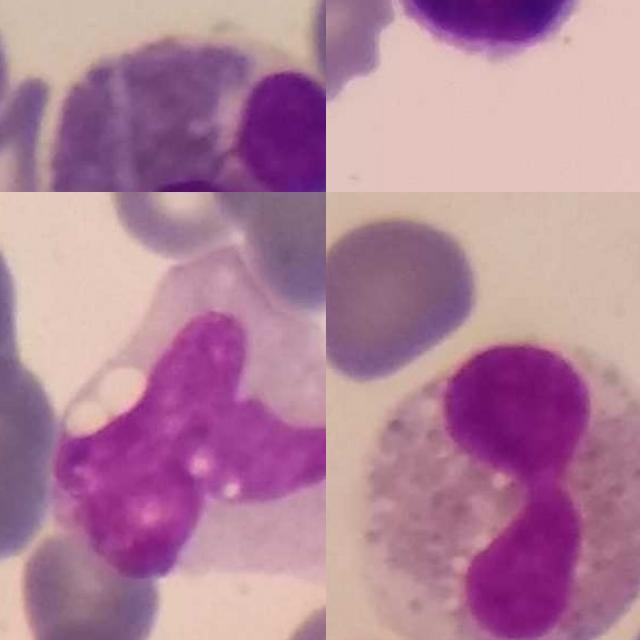Eosinophil: (361, 338, 640, 640), (53, 27, 326, 192)
Lymphocyte: (385, 0, 584, 58)
Monocyte: (46, 242, 326, 580)
